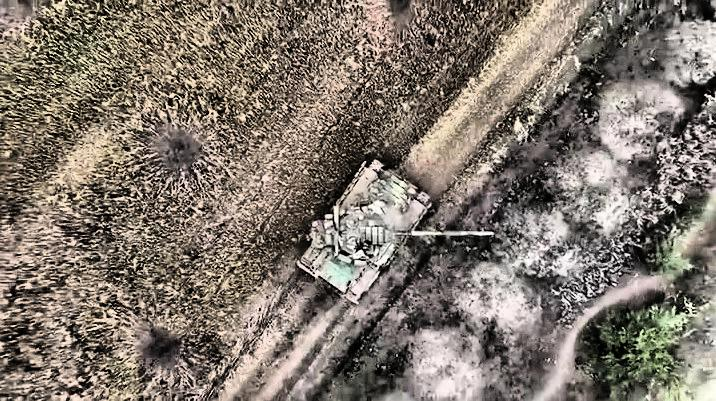military-vehicle: (298, 161, 495, 304)
